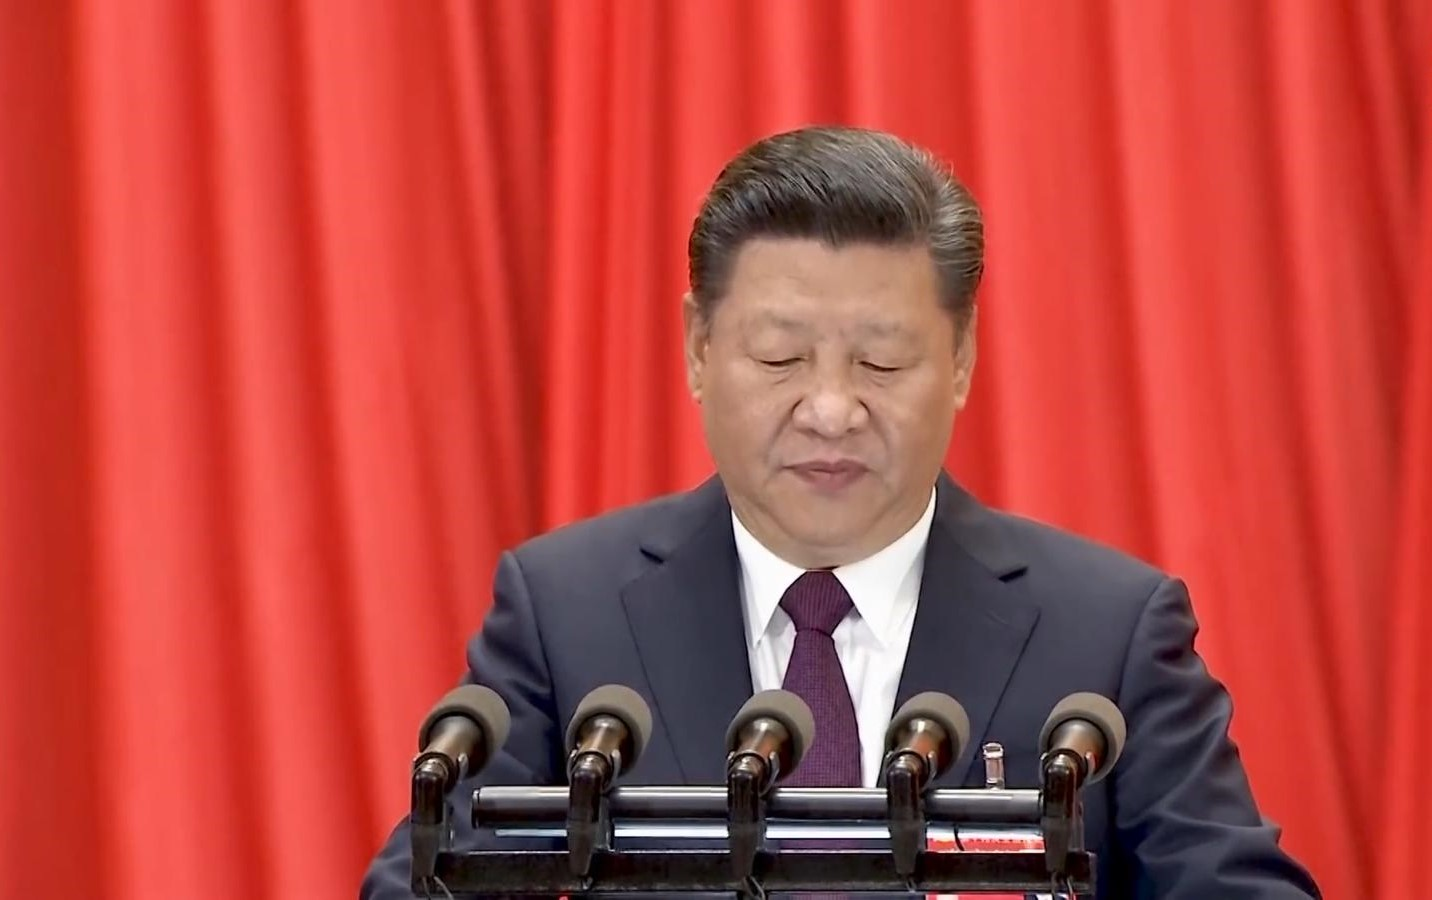without_mask: (741, 313, 929, 491)
